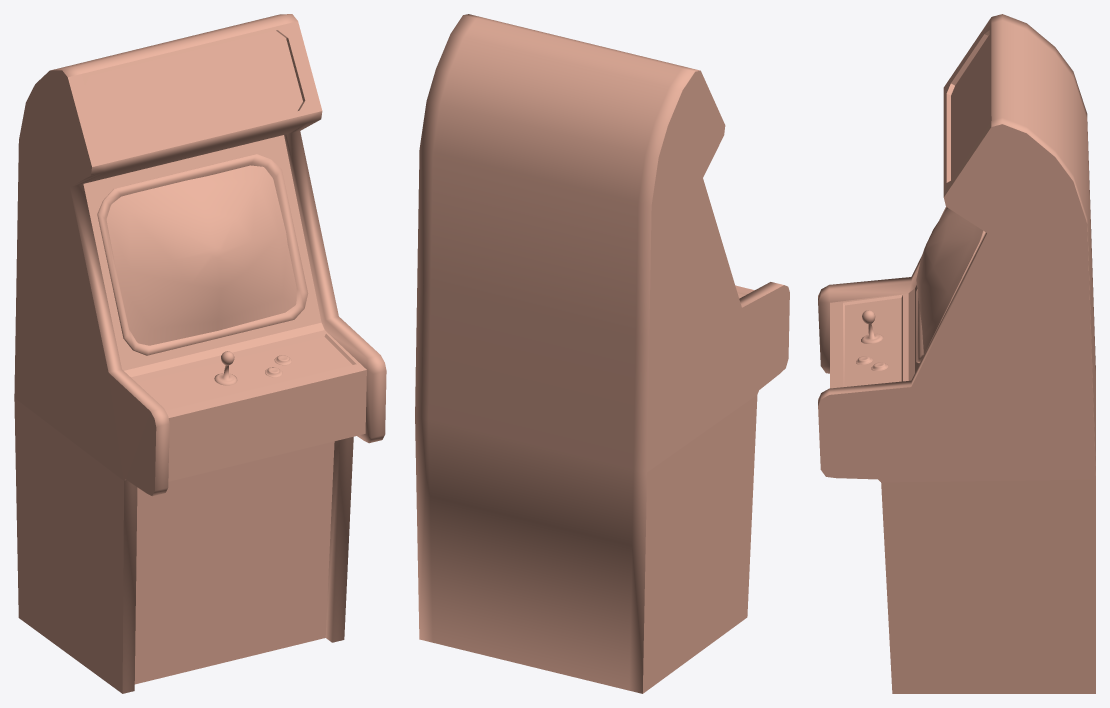
3 renders of one model, left to right at view 1: azimuth 30°, elevation 25°; view 2: azimuth 150°, elevation 25°; view 3: azimuth 270°, elevation 25°, orthographic. The views are drawn at different scales.
Visible parts, largest first — view 1: ArcadeCabinet_LowPoly.003; view 2: ArcadeCabinet_LowPoly.003; view 3: ArcadeCabinet_LowPoly.003.
Boxes of the visible parts, x1=… form: ArcadeCabinet_LowPoly.003: x1=14, y1=14, x2=386, y2=693; ArcadeCabinet_LowPoly.003: x1=415, y1=14, x2=789, y2=693; ArcadeCabinet_LowPoly.003: x1=818, y1=14, x2=1095, y2=693.
Bounding box in the file's own units: 1.2 × 2.91 × 1.28.
